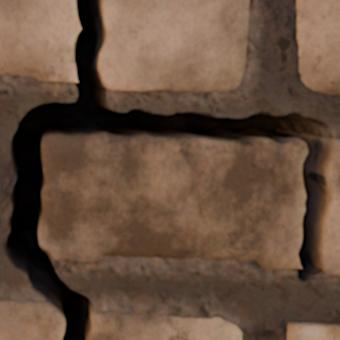brick: (297, 0, 339, 94), (288, 323, 339, 339)
broken_brick: (40, 136, 306, 269), (100, 0, 250, 93), (0, 0, 78, 82), (93, 309, 242, 339), (0, 300, 64, 339), (326, 138, 339, 276)
crack: (2, 0, 337, 339)
